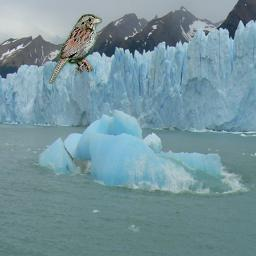Sparrow: (49, 14, 102, 84)
